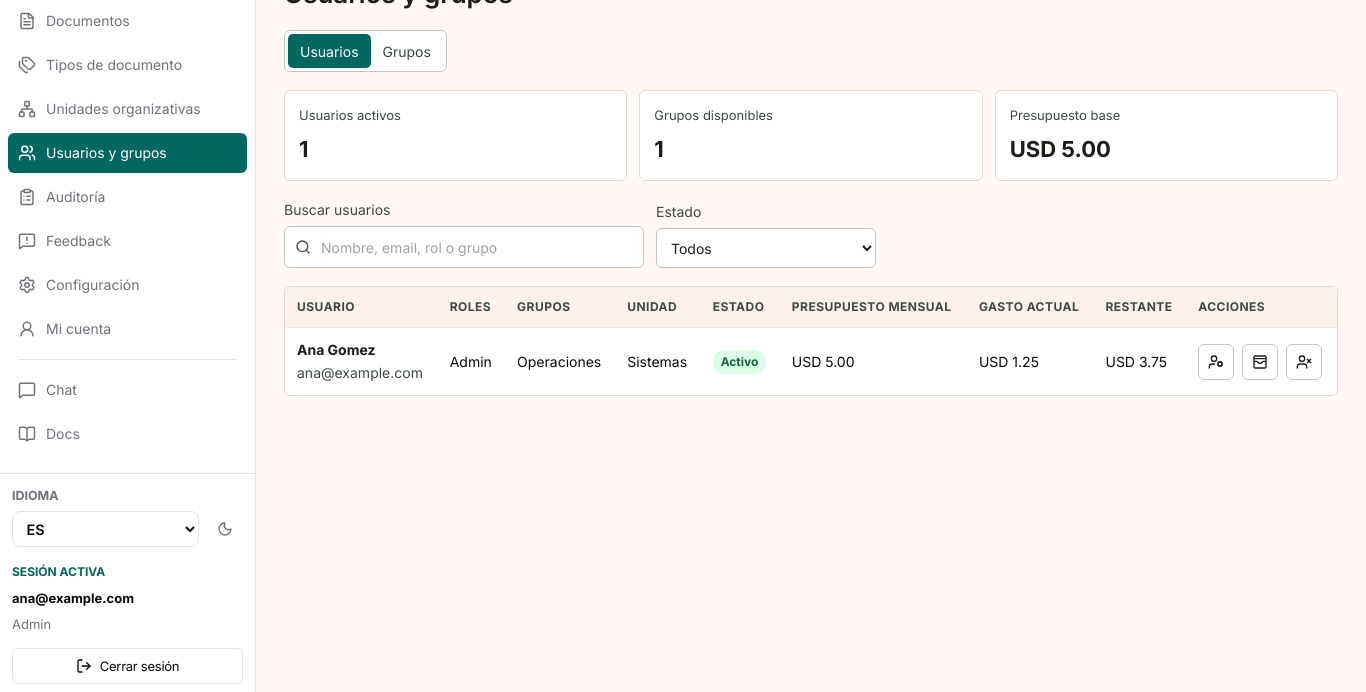
Test: management documents › opens editor, tracks dirty state, and sends a valid draft to review
Click the link "Documentos".
click(74, 21)  # box [18,12,130,30]
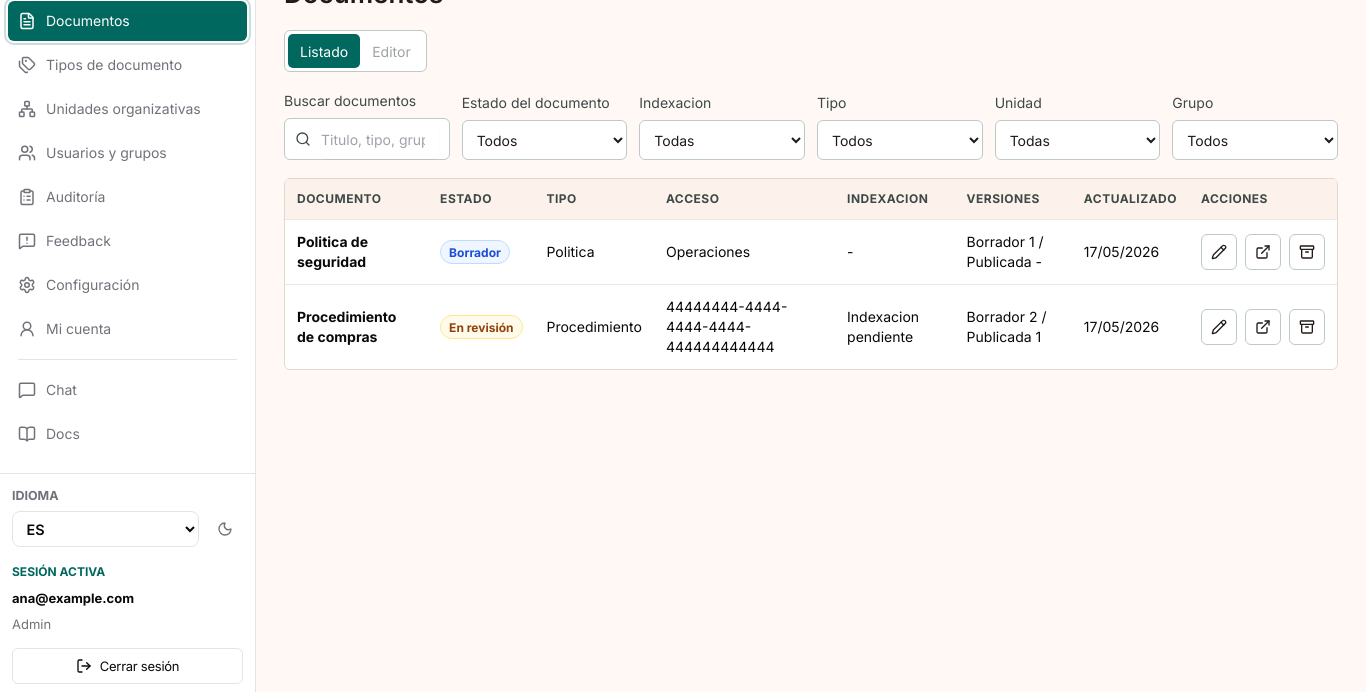
Click the button named "Editar Politica de seguridad".
click(1219, 252)  # box [1201,234,1237,270]
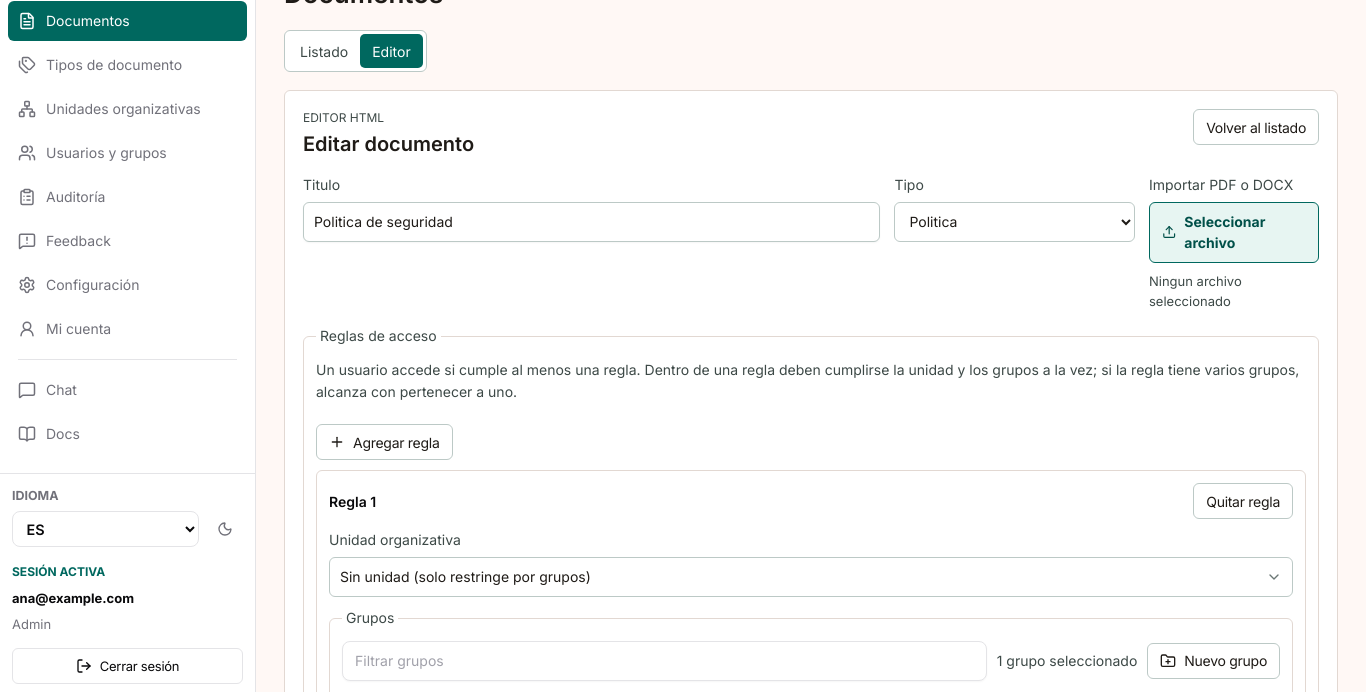
Replace the text in the field labelled "Titulo" with "Politica actualizada" at [592, 222], box [303,202,880,242]
(page scrolled)
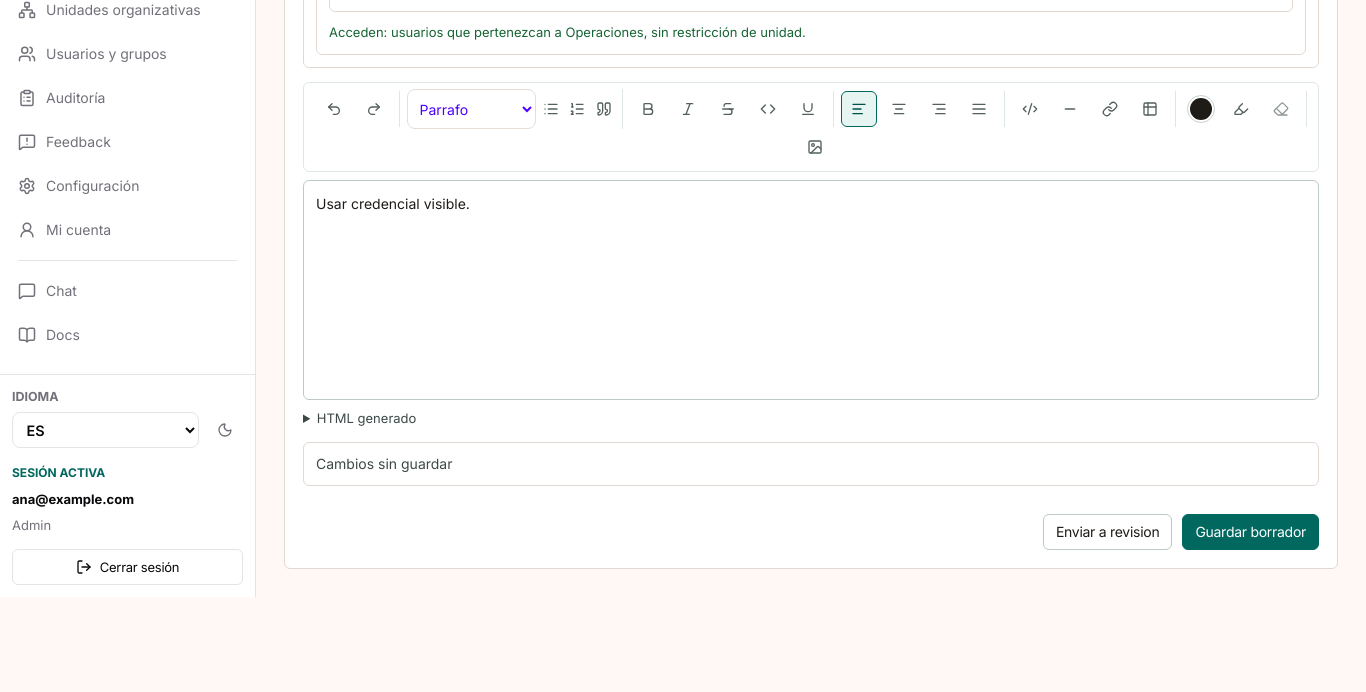
Now the text "Cambios sin guardar" is shown, box [303,442,1319,486]
Click the button "Guardar borrador".
click(1251, 532)  # box [1182,514,1319,550]
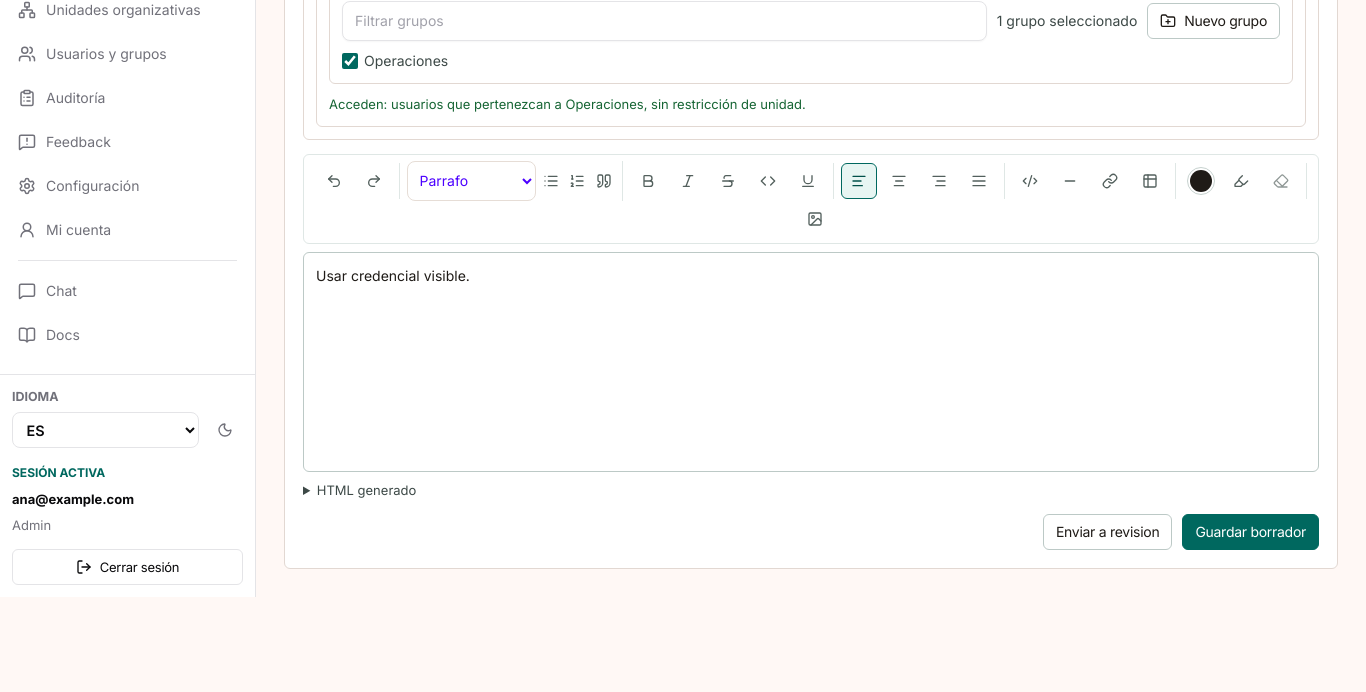
Click the button "Enviar a revision".
click(1108, 532)  # box [1043,514,1172,550]
(page scrolled)
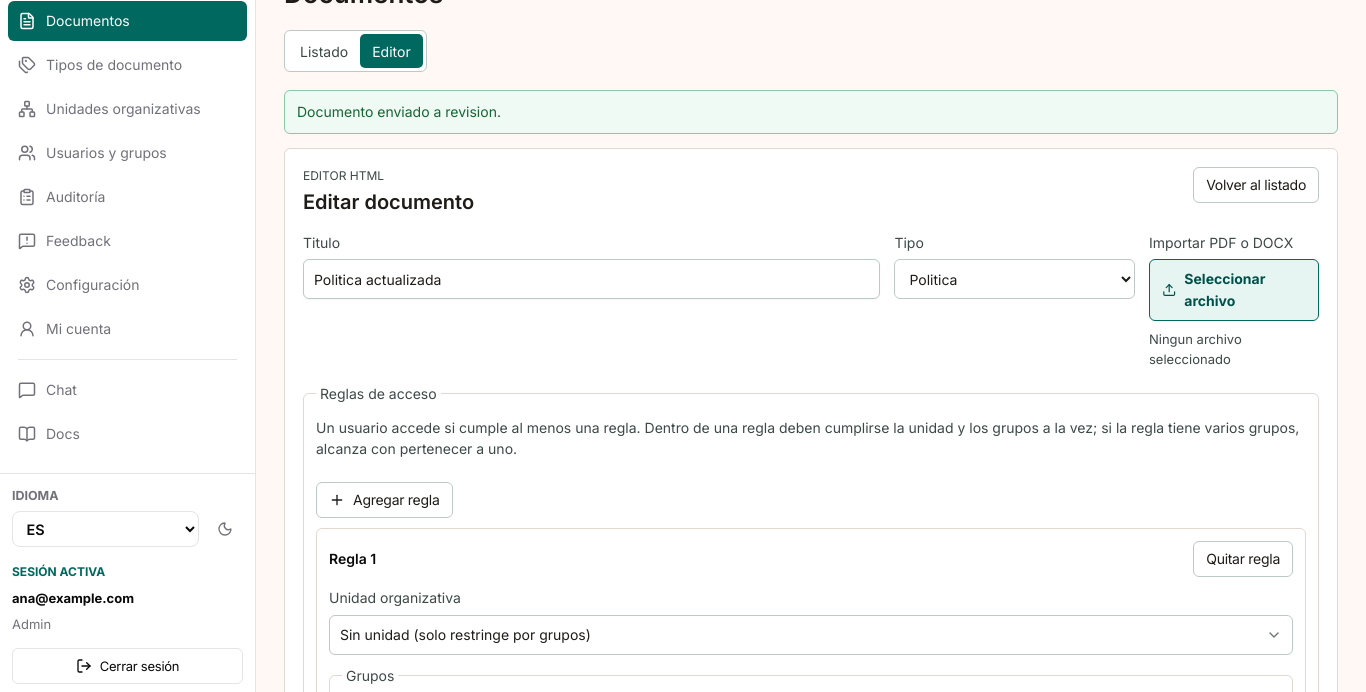
Now the text "Documento enviado a revision." is shown, box [284,90,1338,134]
